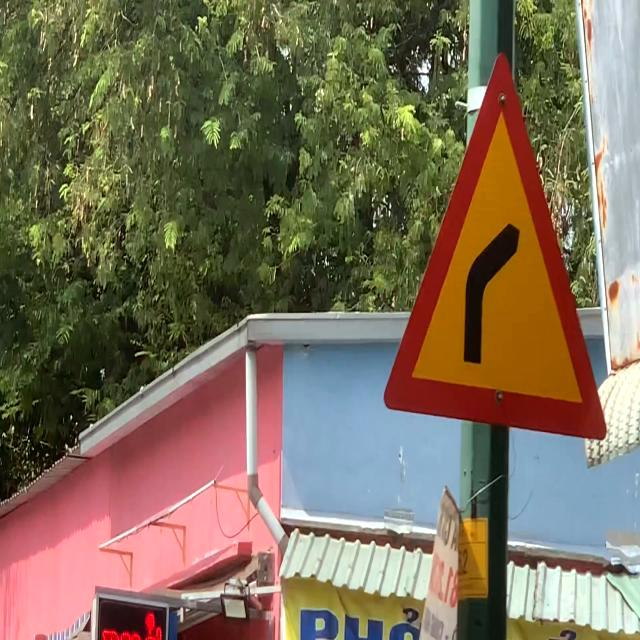cho ngoat nguy hiem vong ben phai: (371, 40, 626, 479)
